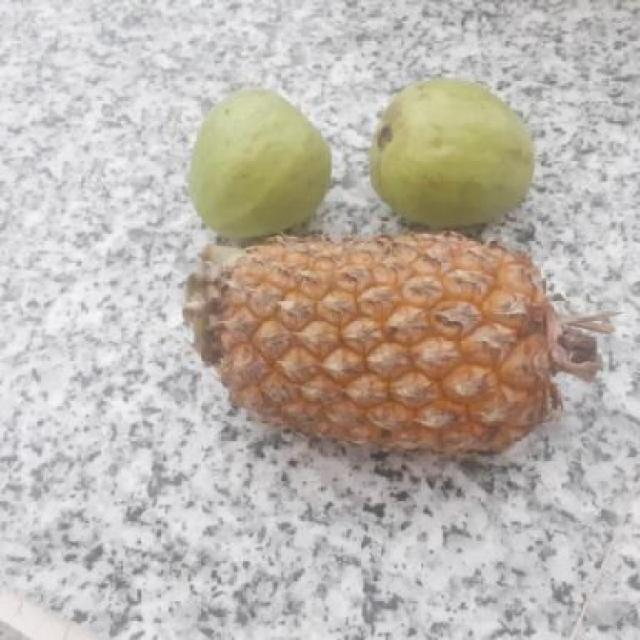guava: (367, 80, 531, 223), (181, 91, 334, 242)
pineapple: (179, 227, 579, 458)
